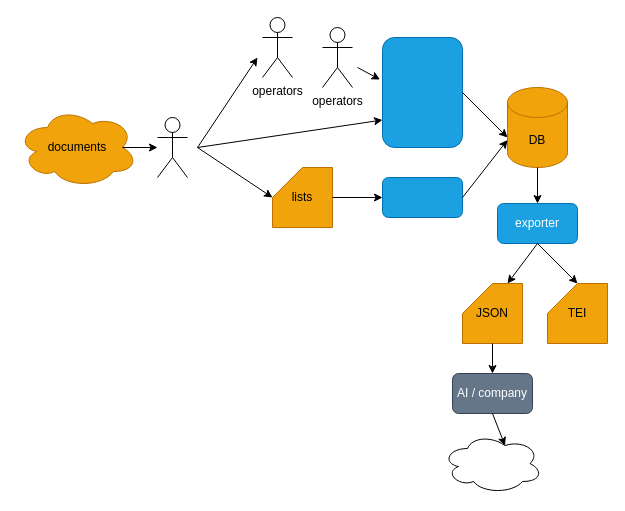
The diagram is 625 pixels wide and 511 high, and some of its shapes have lost their labels. Each missing label, with the centre of its shape:
"editor" belongs at point (422, 92).
"importer" belongs at point (422, 197).
"philologist" belongs at point (172, 147).
"web" belongs at point (492, 463).
